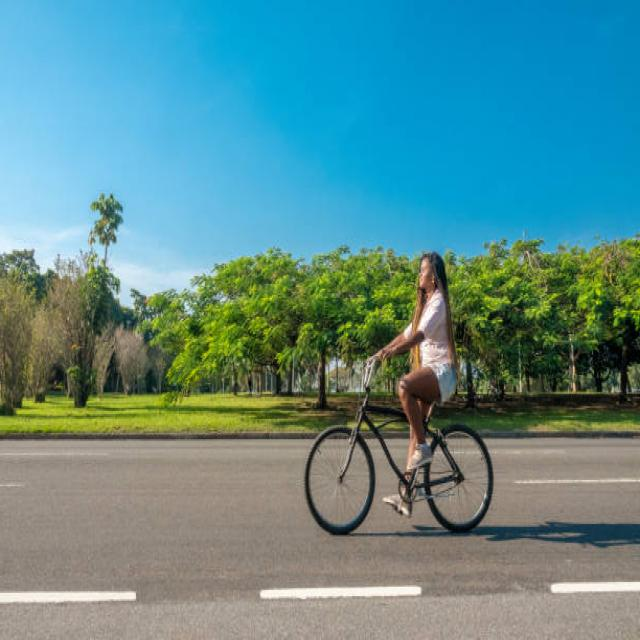bicycle: (305, 253, 492, 534)
